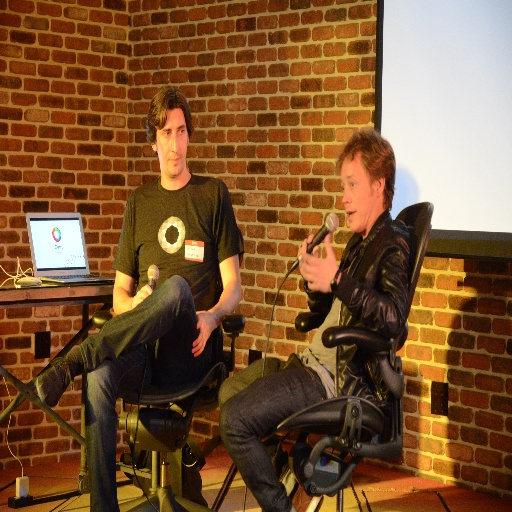hand: (297, 238, 340, 303), (190, 309, 210, 357), (297, 234, 318, 275), (130, 282, 150, 308)
